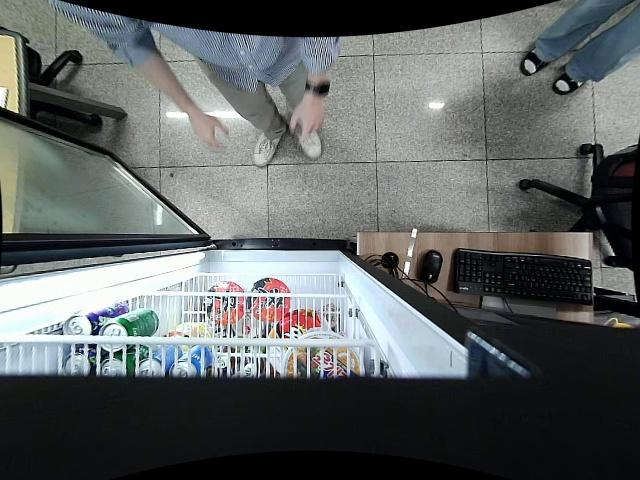00_hand: (288, 101, 328, 141), (194, 112, 231, 154)
